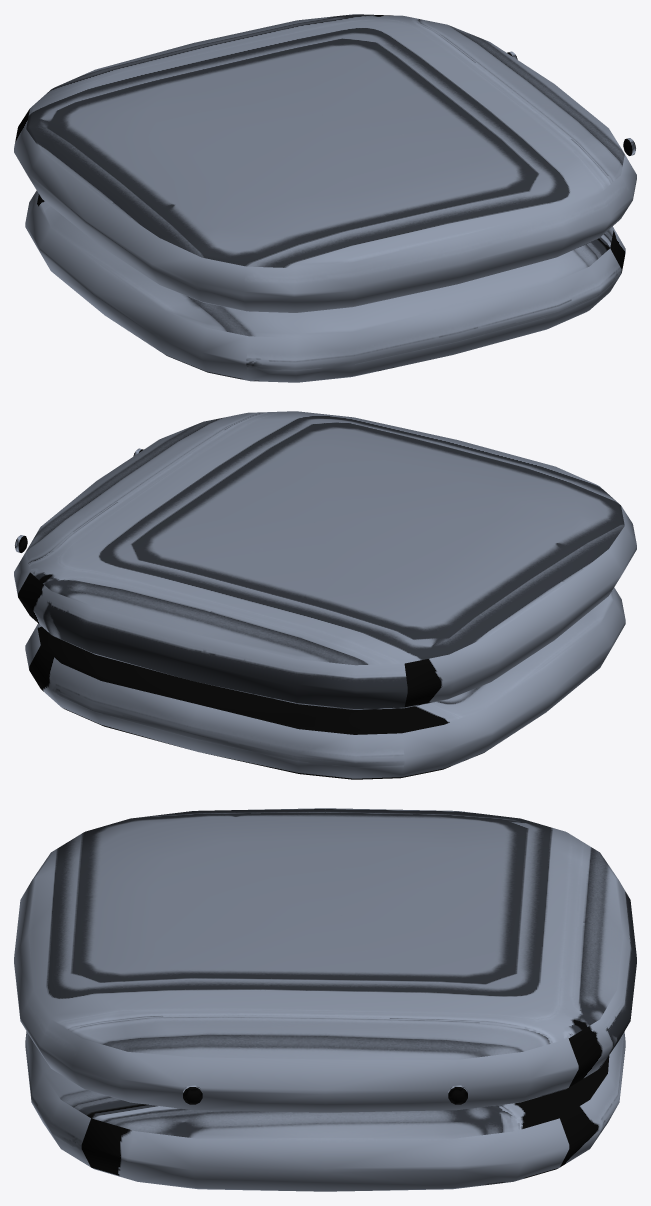
Rendered from Estela_BrazoIzq_Acero.fbx.
3 views of the same model, one above another, from view 1: azimuth 30°, elevation 25°; view 2: azimuth 150°, elevation 25°; view 3: azimuth 270°, elevation 25° (orthographic). The views are drawn at different scales.
Parts seen in each view (by area): view 1: Estela_BrazoIzq_Acero; view 2: Estela_BrazoIzq_Acero; view 3: Estela_BrazoIzq_Acero.
Boxes of the visible parts, x1,y1,x2,y2 form: Estela_BrazoIzq_Acero: [14, 14, 636, 382]; Estela_BrazoIzq_Acero: [14, 411, 636, 779]; Estela_BrazoIzq_Acero: [14, 808, 636, 1191].
Size of the model in its own units: 1.2 by 0.3725 by 1.18.
